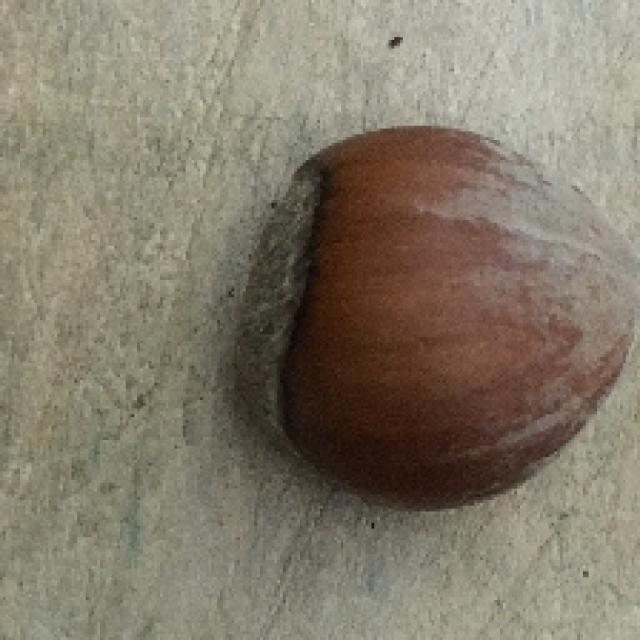qualityHazelnut: (237, 131, 640, 503)
